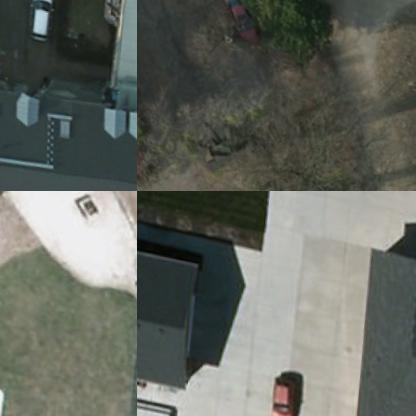car: (205, 0, 271, 41), (19, 0, 56, 41), (263, 372, 294, 415)
